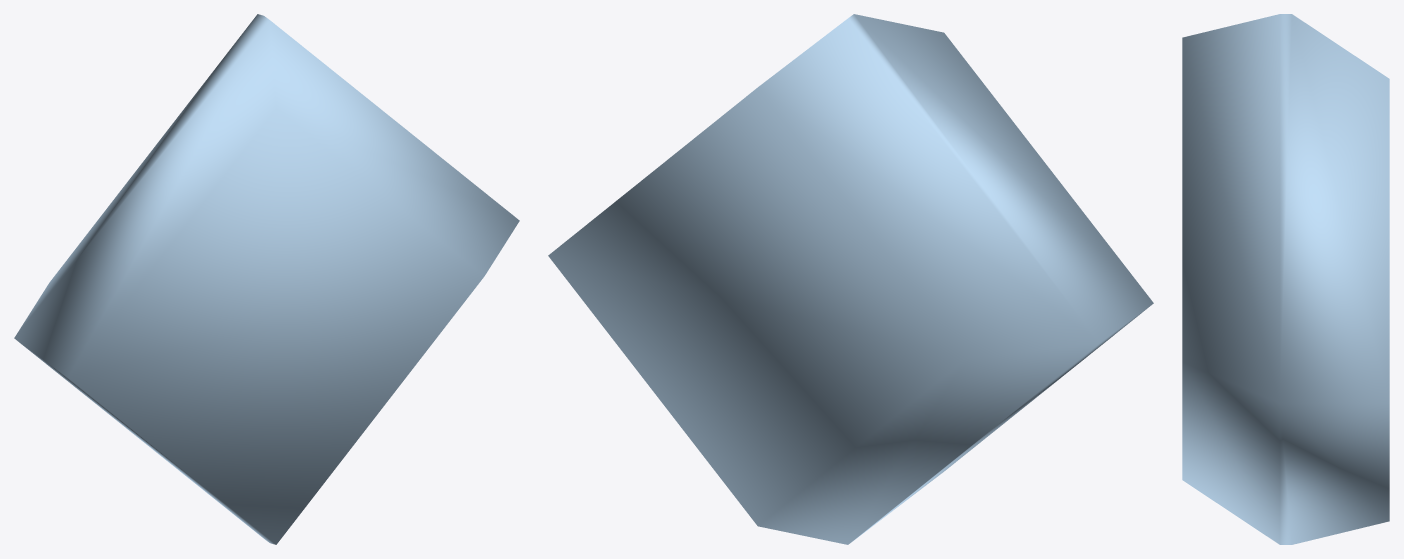
Rendered from sphene.glb.
3 renders of one model, left to right at view 1: azimuth 30°, elevation 25°; view 2: azimuth 150°, elevation 25°; view 3: azimuth 270°, elevation 25°, orthographic.
Parts seen in each view (by area): view 1: sphene; view 2: sphene; view 3: sphene.
Boxes of the visible parts, bbox=[...] form: sphene: bbox=[14, 14, 519, 544]; sphene: bbox=[548, 14, 1153, 544]; sphene: bbox=[1182, 14, 1389, 544].
Bounding box in the file's own units: 1.7 × 1.7 × 0.6.
